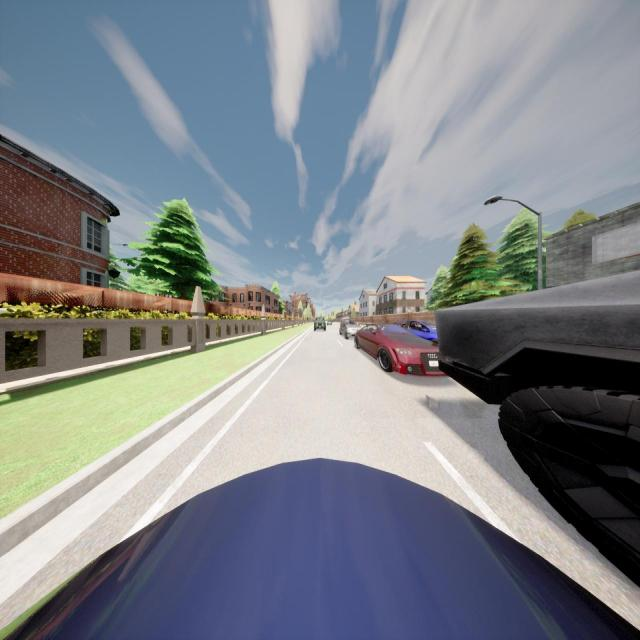Vehicle: (1, 455, 639, 640), (437, 269, 640, 586), (354, 324, 438, 378), (395, 320, 437, 342), (339, 319, 362, 339), (314, 316, 326, 331), (327, 320, 332, 326)
